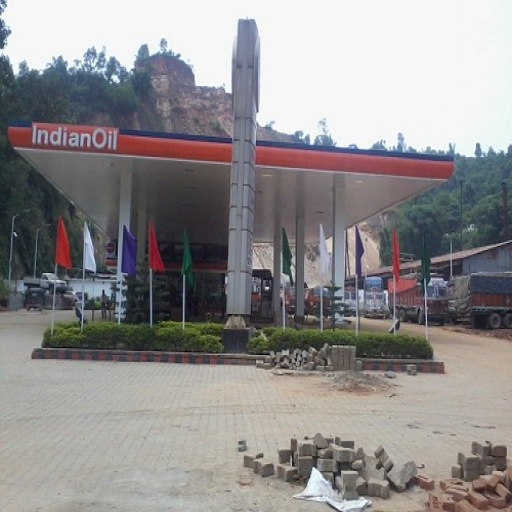roof: (7, 116, 452, 252)
